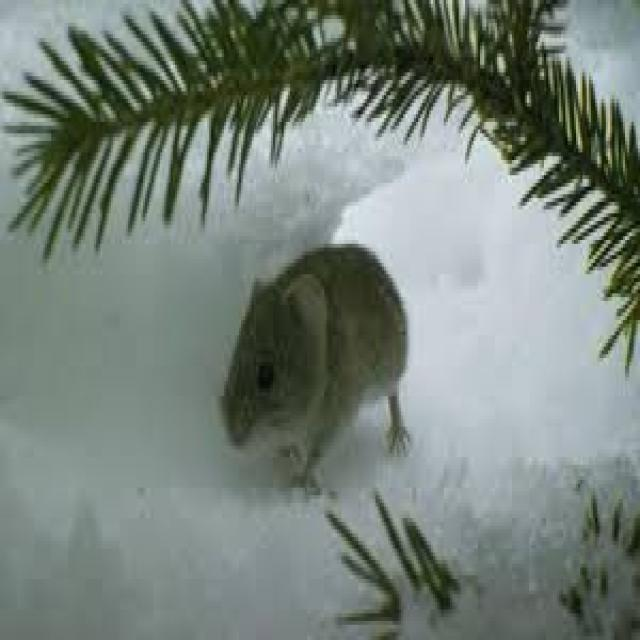Rat: (209, 208, 428, 501)
